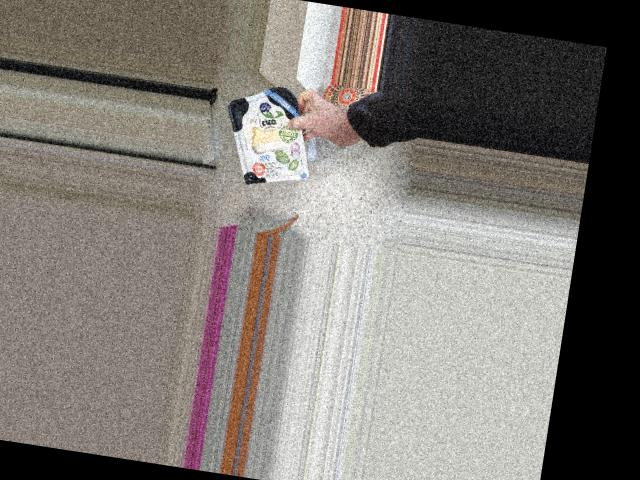cheese: (231, 85, 311, 190)
